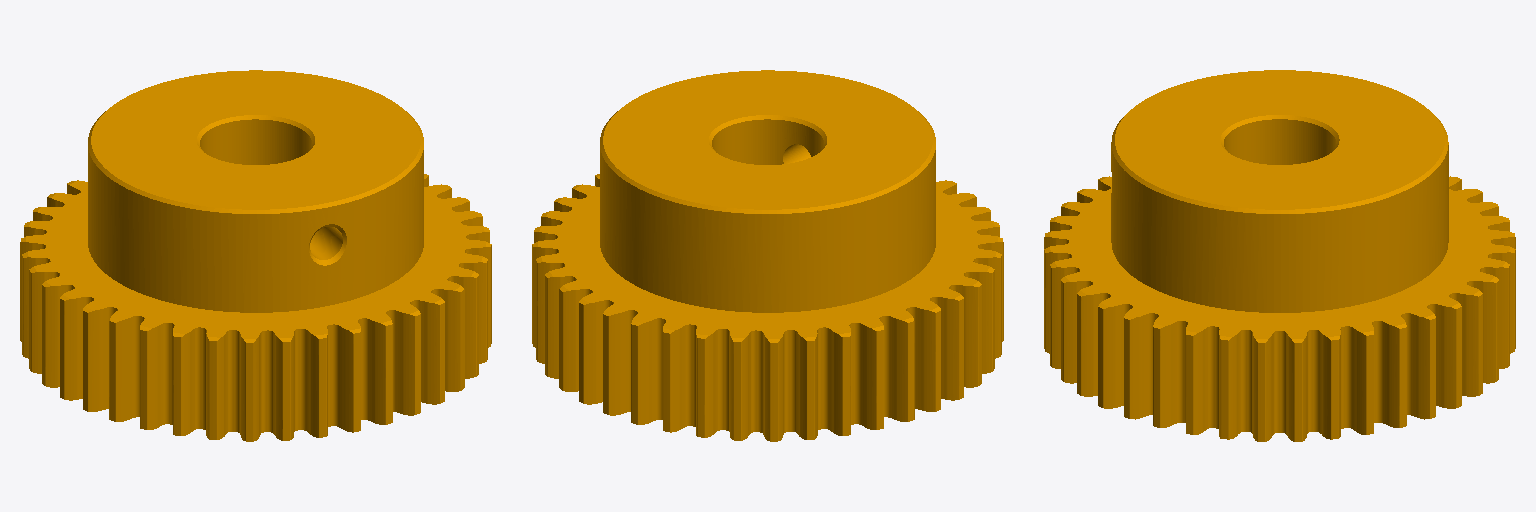
The robot description file, URDF, robot "industreal_gear_medium":
<?xml version="1.0"?>
<robot name="industreal_gear_medium">
    <link name="industreal_gear_medium">
        <visual>
            <geometry>
                <mesh filename="../mesh/industreal_gears/industreal_gear_medium.obj"/>
            </geometry>
        </visual>
        <collision>
            <geometry>
                <mesh filename="../mesh/industreal_gears/industreal_gear_medium.obj"/>
            </geometry>
            <sdf resolution="256"/>
        </collision>
    </link>
</robot>

--- Facts derived from the render (not from the file) ---
The picture shows the robot from 3 angles, left to right: view 1: azimuth 30°, elevation 25°; view 2: azimuth 150°, elevation 25°; view 3: azimuth 270°, elevation 25°; orthographic projection.
Model industreal_gear_medium with 1 links and 0 joints (none), rooted at industreal_gear_medium, posed all joints at 0.
Visible links, largest first — view 1: industreal_gear_medium; view 2: industreal_gear_medium; view 3: industreal_gear_medium.
Boxes of the visible links, bbox=[...] form: industreal_gear_medium: bbox=[20, 70, 491, 441]; industreal_gear_medium: bbox=[532, 70, 1003, 441]; industreal_gear_medium: bbox=[1044, 70, 1515, 441].
Bounding box of the posed robot: 0.0419 × 0.0419 × 0.02 m (x, y, z).
Meshes: 1 distinct files referenced, 1 mesh visuals loaded (1 OBJ).